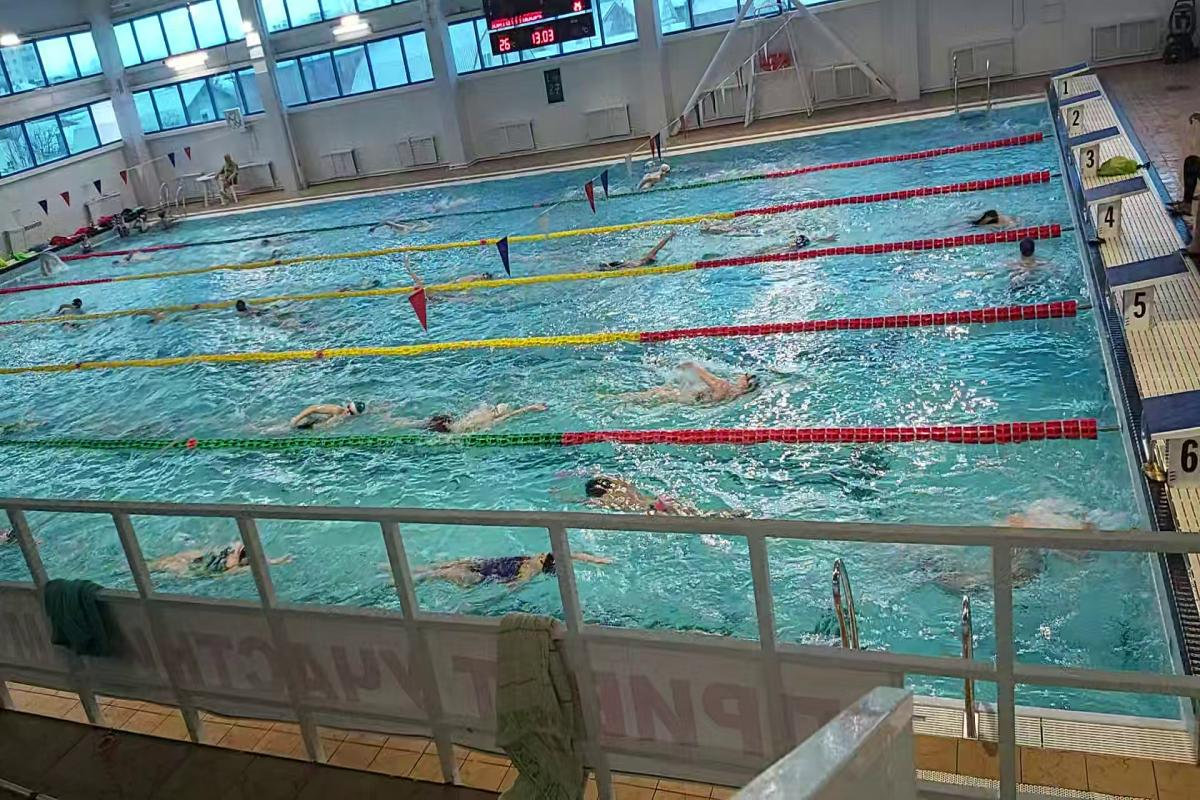swimmer: (938, 518, 1088, 592), (589, 362, 766, 418), (414, 542, 557, 603), (557, 465, 707, 516), (407, 390, 551, 432), (267, 386, 374, 436), (149, 537, 249, 590), (593, 237, 683, 268), (992, 238, 1056, 281), (960, 198, 1016, 232), (750, 229, 842, 248), (228, 296, 290, 322), (366, 214, 424, 236), (47, 292, 97, 314), (448, 268, 496, 281)
